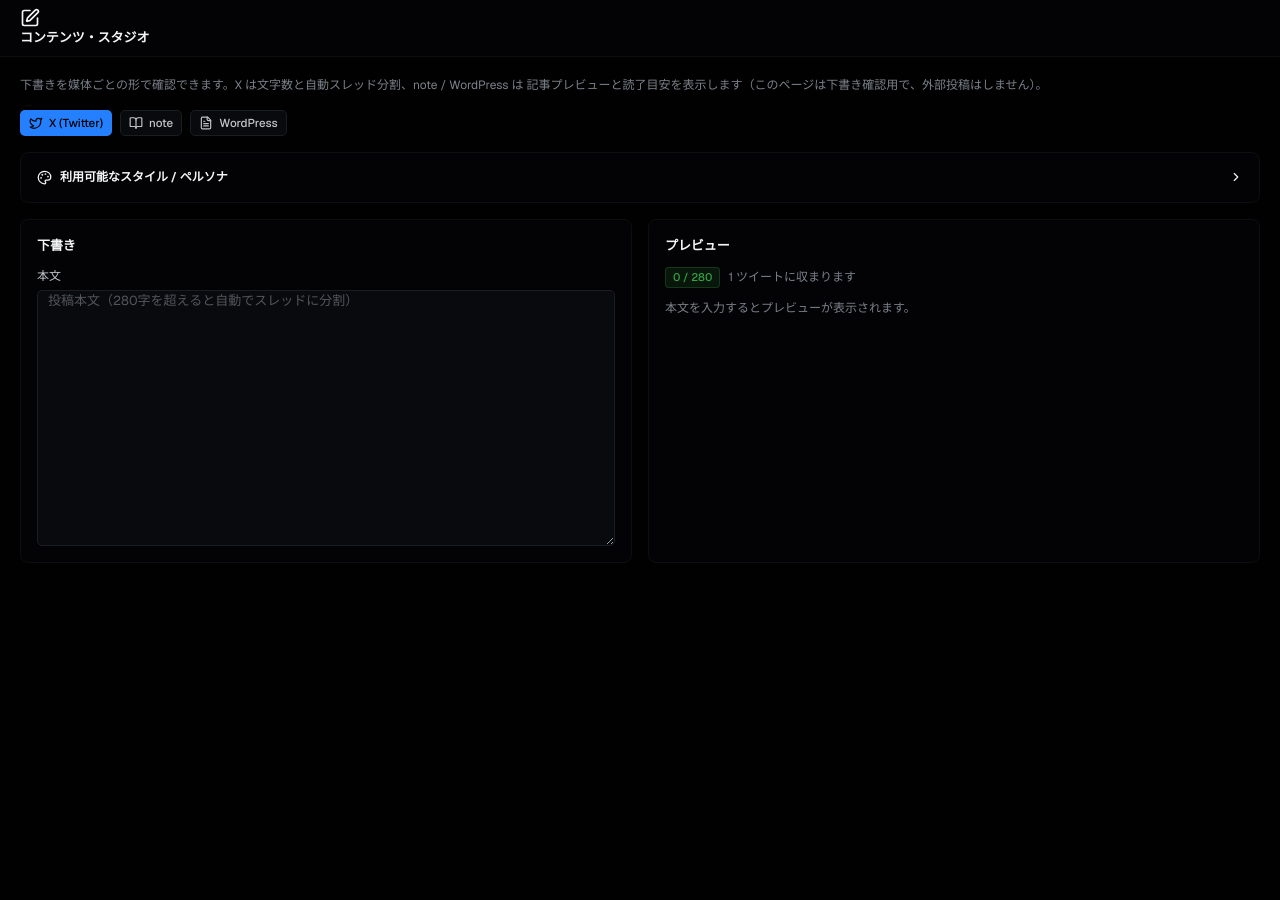
Test case: note タブに切り替えるとタイトル入力と記事プレビューが出る
Click the tab "note".
click(151, 123)  # box [120,110,182,136]
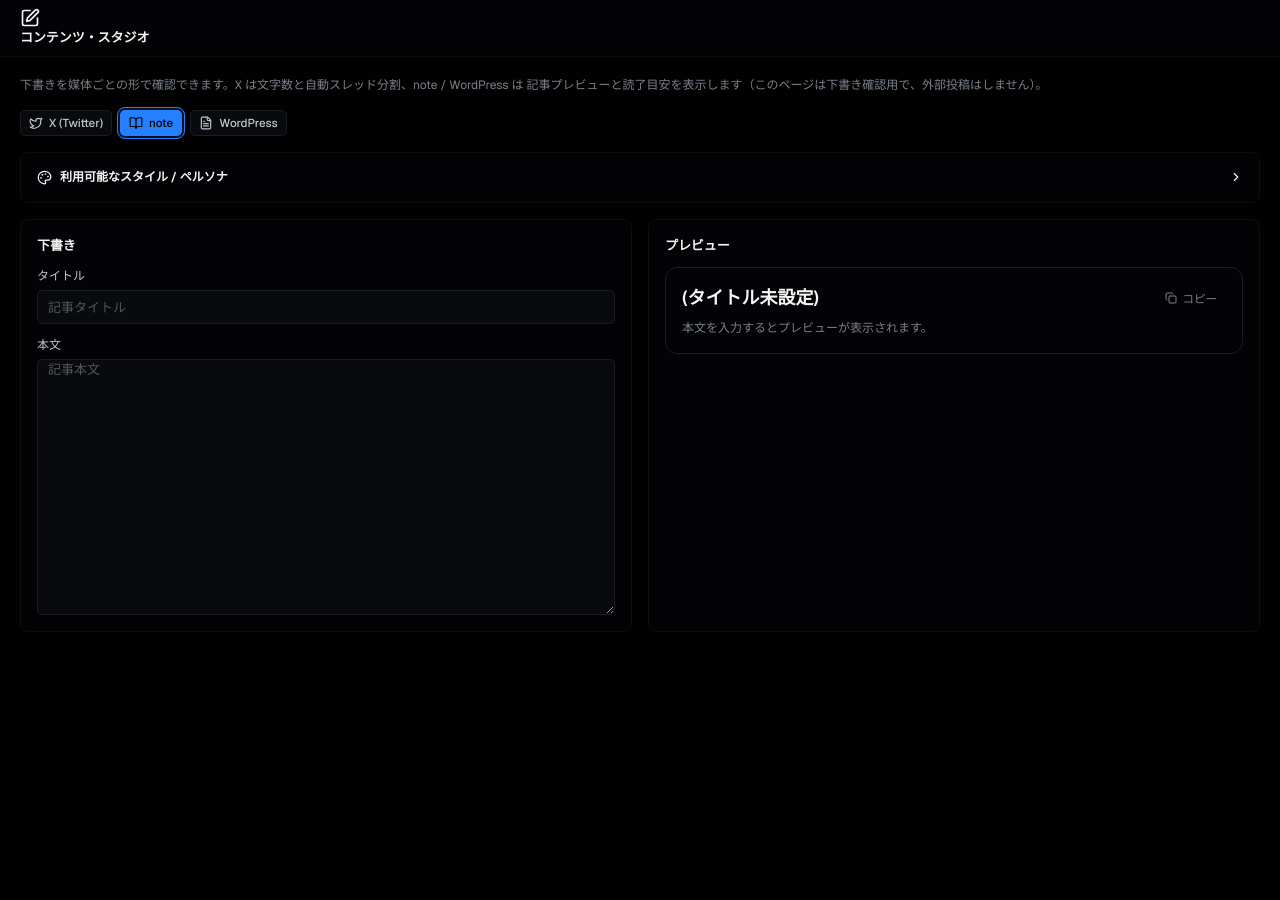
Expected: the field labelled "タイトル" is shown
Type "朝活のコツ" into the field labelled "タイトル".
click(326, 307); type("朝活のコツ")  # box [37,290,615,324]
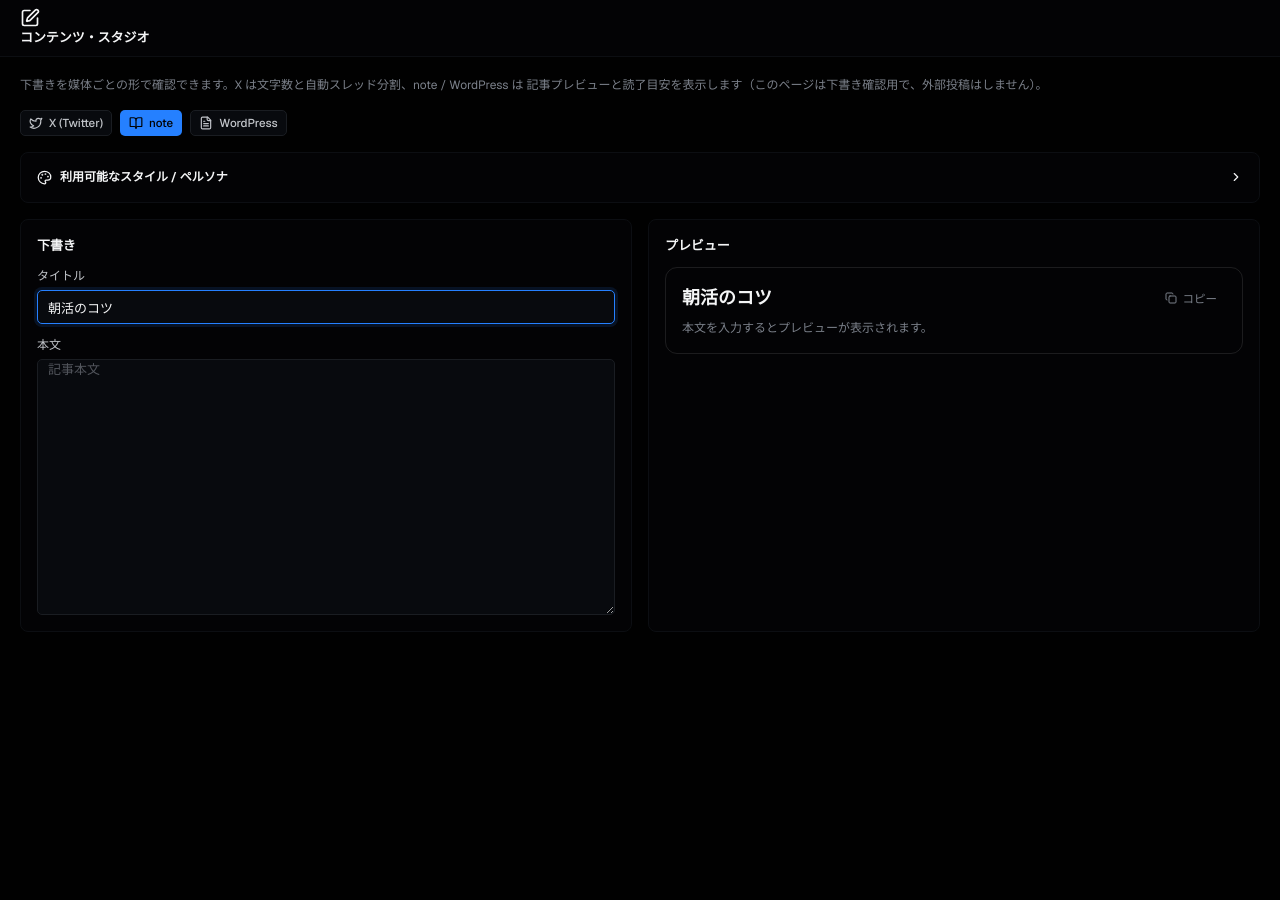
Expected: the heading "朝活のコツ" is shown, [682,284,772,312]
